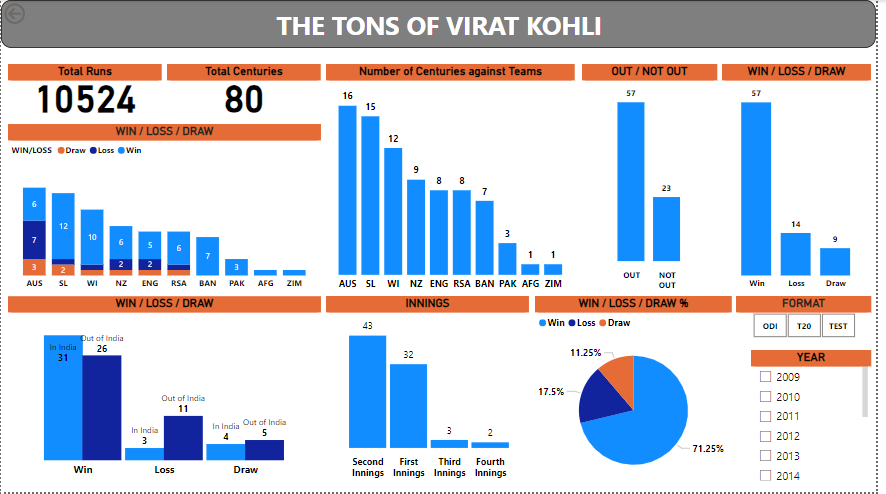

What the dashboard file says about the page in this screenshot:
{"tool":"powerbi","page":{"name":"Dashboard","canvas":[1280,720],"ordinal":0},"visuals":[{"type":"textbox","box":[0,0,1280.5,70.2],"z":0},{"type":"card","title":"Total Runs","fields":{"Values":["Table1.RUNS/CENTURY"]},"box":[10.2,93.7,225.4,89.3],"z":1000},{"type":"card","title":"Total Centuries","fields":{"Values":["Table1.RUNS/CENTURY"]},"box":[242.9,93.7,225.4,89.3],"z":2000},{"type":"columnChart","title":"Number of Centuries against Teams","fields":{"Category":["Table1.COUNTRY"],"Y":["Table1.RUNS/CENTURY"]},"box":[475.6,93.7,364.4,339.5],"z":3000},{"type":"columnChart","title":"WIN / LOSS / DRAW","fields":{"Category":["Table1.WIN/LOSS"],"Y":["Table1.COUNTRY"]},"box":[1055.1,93.7,218,339.5],"z":4000},{"type":"clusteredColumnChart","title":"WIN / LOSS / DRAW","fields":{"Category":["Table1.WIN/LOSS"],"Y":["Table1.IN INDIA/NOT IN INDIA"],"Series":["Table1.IN INDIA/NOT IN INDIA"]},"box":[10.6,433.3,457.6,274.2],"z":5000},{"type":"columnChart","title":"INNINGS","fields":{"Category":["Table1.INNINGS"],"Y":["Table1.OUT/NOT OUT"]},"box":[475.6,433.2,297.1,275.1],"z":6000},{"type":"columnChart","title":"OUT / NOT OUT","fields":{"Category":["Table1.OUT/NOT OUT"],"Y":["Table1.INNINGS"]},"box":[850.2,93.7,197.6,339.5],"z":7000},{"type":"slicer","title":"YEAR","fields":{"Values":["Table1.YEAR"]},"box":[1097.6,512.2,175.6,196.1],"z":8000},{"type":"actionButton","box":[0,0,100,40],"z":9000},{"type":"slicer","title":"FORMAT","fields":{"Values":["Table1.FORMAT"]},"box":[1075.6,433.2,197.6,67.3],"z":10000},{"type":"columnChart","title":"WIN / LOSS / DRAW","fields":{"Y":["Table1.WIN/LOSS"],"Category":["Table1.COUNTRY"],"Series":["Table1.WIN/LOSS"]},"box":[33.3,181.8,418.2,251.5],"z":11000},{"type":"pieChart","title":"WIN / LOSS / DRAW %","fields":{"Category":["Table1.WIN/LOSS"],"Y":["Table1.WIN/LOSS"]},"box":[781.5,433.2,288.3,286.8],"z":12000}]}

Visuals, with their boxes in screenshot pixels (x1, y1, x2, y2), scaled from the page's 1280x720 canvas onto the 886x494 screenshot:
textbox: 0 0 885 48
"Total Runs" card: 7 64 163 126
"Total Centuries" card: 168 64 324 126
"Number of Centuries against Teams" columnChart: 329 64 581 297
"WIN / LOSS / DRAW" columnChart: 730 64 881 297
"WIN / LOSS / DRAW" clusteredColumnChart: 7 297 324 485
"INNINGS" columnChart: 329 297 535 486
"OUT / NOT OUT" columnChart: 588 64 725 297
"YEAR" slicer: 760 351 881 486
actionButton: 0 0 69 27
"FORMAT" slicer: 745 297 881 343
"WIN / LOSS / DRAW" columnChart: 23 125 313 297
"WIN / LOSS / DRAW %" pieChart: 541 297 741 493
